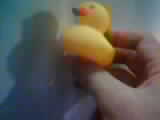duck: (61, 11, 118, 61)
